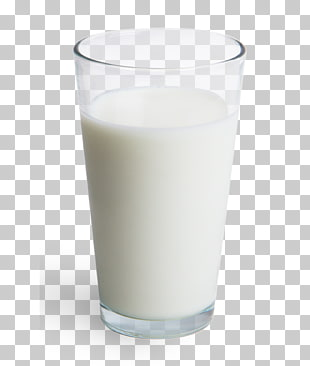glass of milk: (72, 30, 242, 331)
